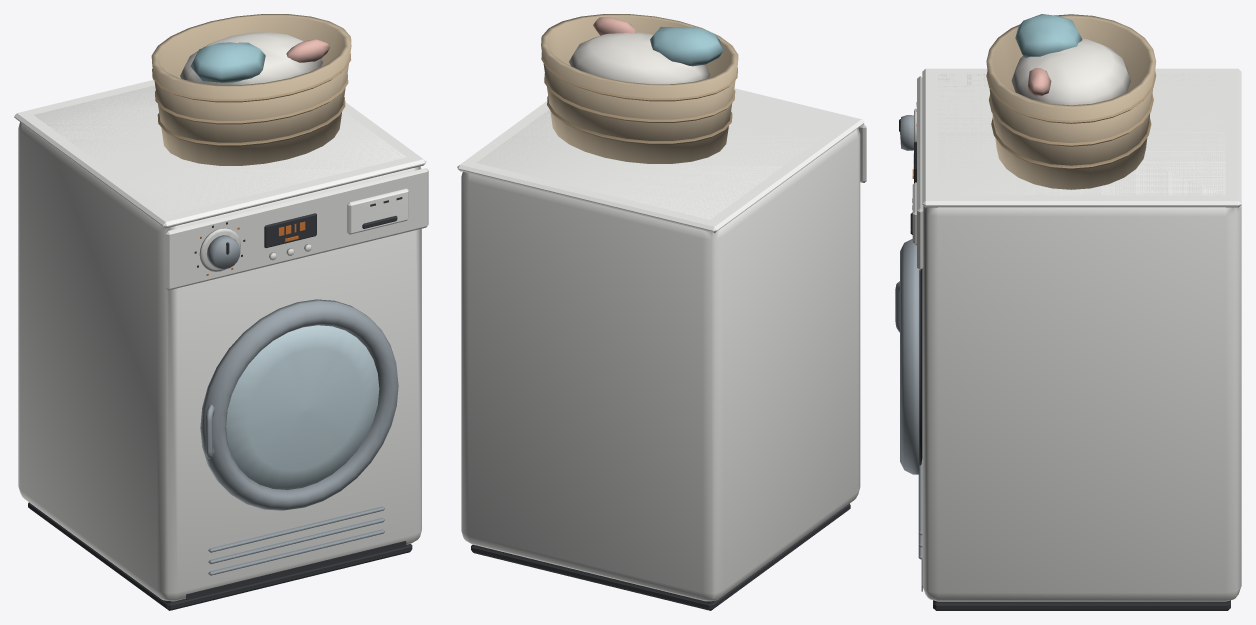
File: laundryDryer.glb
The picture shows the model from 3 angles, left to right: view 1: azimuth 30°, elevation 25°; view 2: azimuth 150°, elevation 25°; view 3: azimuth 270°, elevation 25°; orthographic projection. The views are drawn at different scales.
Visible parts, largest first — view 1: body, door; view 2: body; view 3: body, door.
Part boxes in pixels (bbox=[...]): body: bbox=[14, 14, 428, 610]; door: bbox=[200, 299, 398, 510]; body: bbox=[457, 14, 866, 610]; body: bbox=[899, 14, 1241, 610]; door: bbox=[895, 239, 919, 474].
Size of the model in its own units: 0.6 by 1.09 by 0.6507.
